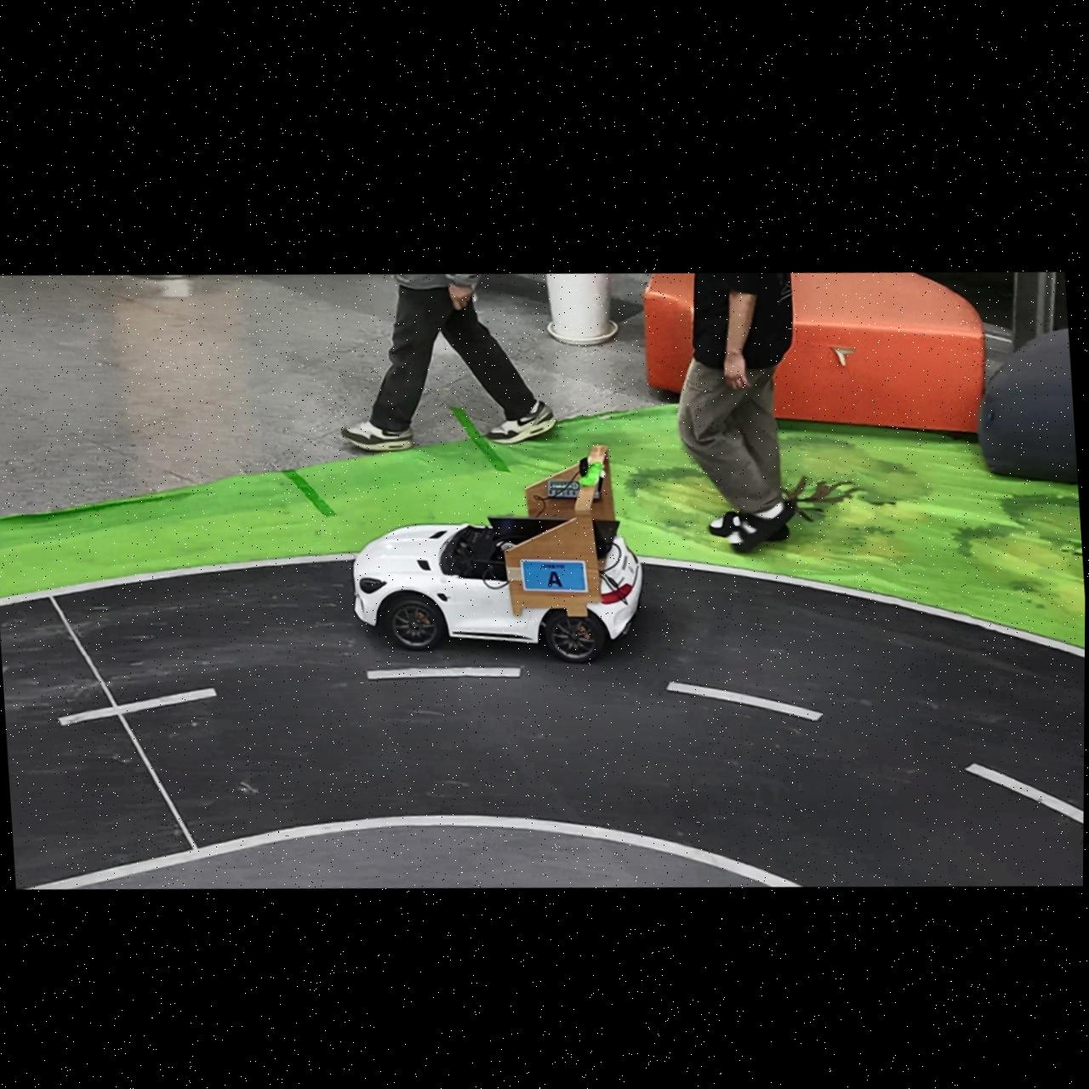broken_line: (964, 763, 1084, 824), (666, 682, 824, 721), (57, 687, 217, 725), (367, 668, 521, 680)
